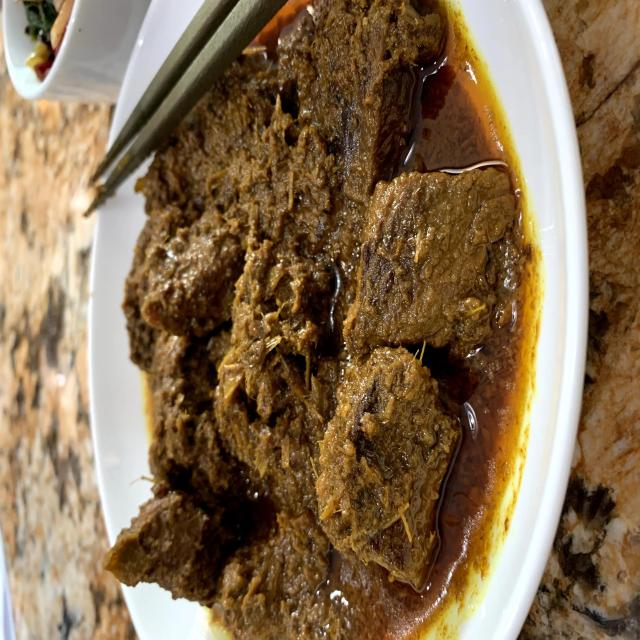Rendang: (74, 0, 566, 640)
